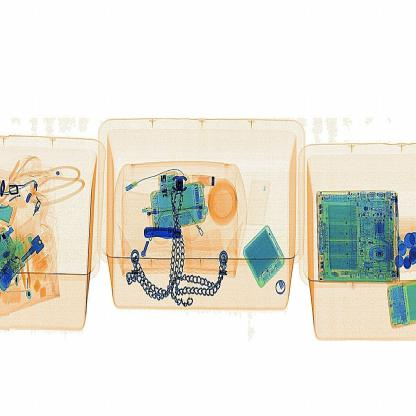knife: (145, 222, 190, 247)
